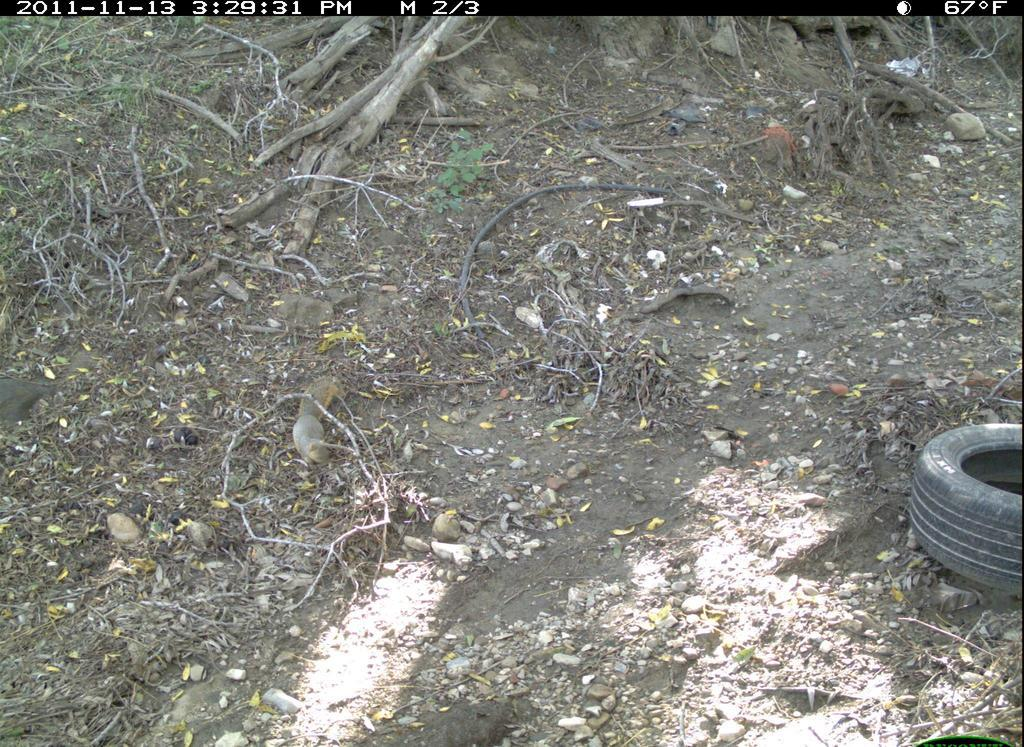squirrel: (276, 360, 354, 472)
